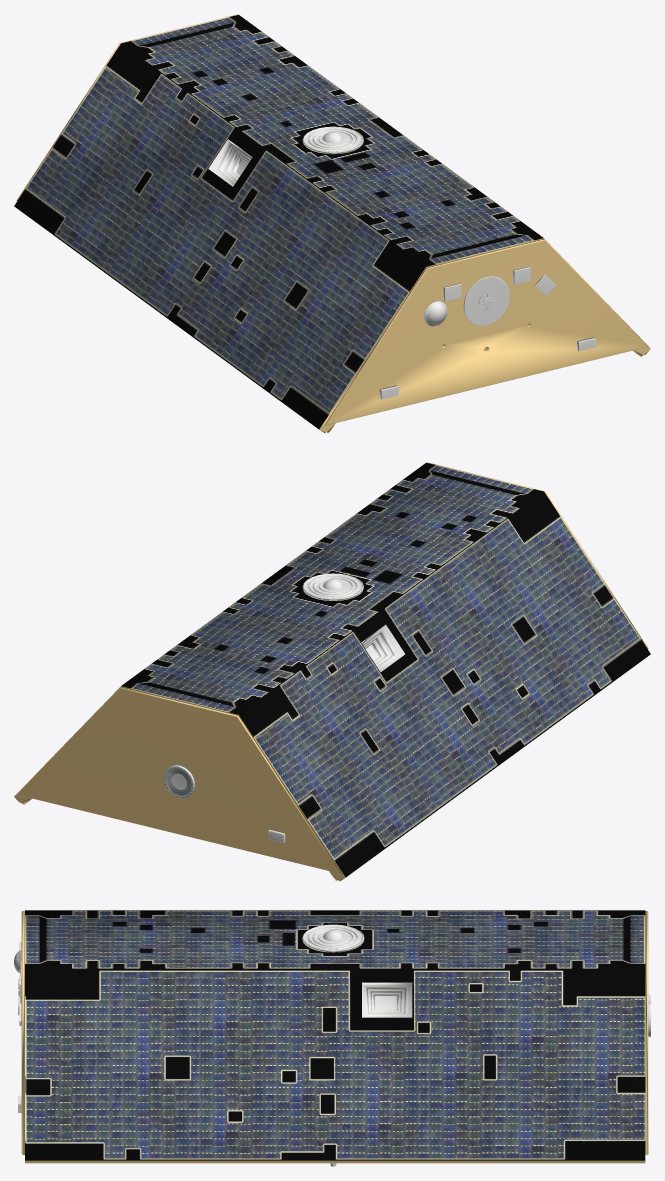
Rendered from grace.glb.
3 views of the same model, one above another, from view 1: azimuth 30°, elevation 25°; view 2: azimuth 150°, elevation 25°; view 3: azimuth 270°, elevation 25° (orthographic).
Visible parts, largest first — view 1: Mesh; view 2: Mesh; view 3: Mesh.
Part boxes in pixels (x1=…): Mesh: x1=14, y1=14, x2=650, y2=433; Mesh: x1=14, y1=462, x2=650, y2=881; Mesh: x1=14, y1=910, x2=650, y2=1166.
Size of the model in its own units: 0.6112 by 0.4064 by 1.
Materials: 6 (1 with a texture image).
